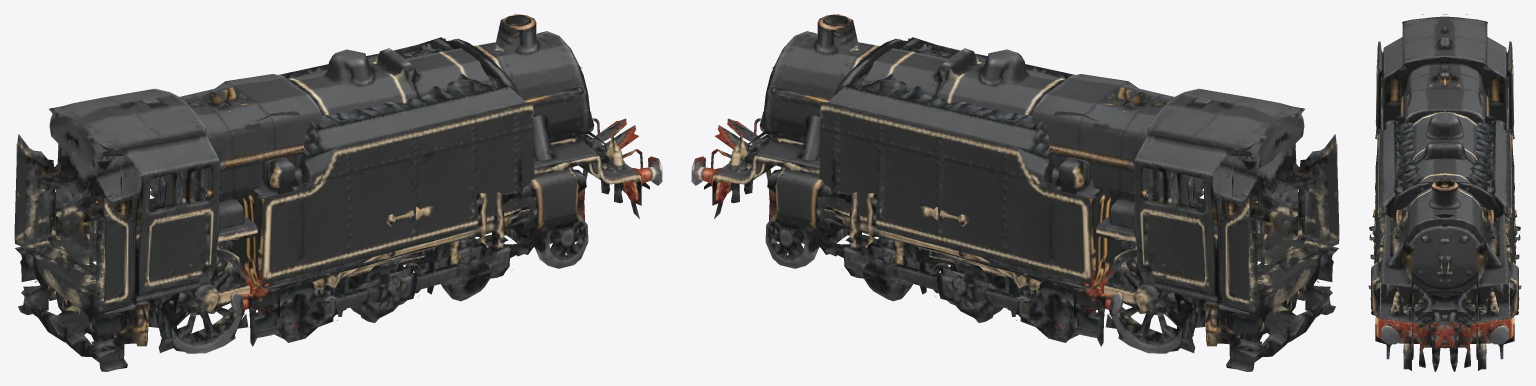
Rendered from black_five.glb.
The picture shows the model from 3 angles, left to right: view 1: azimuth 30°, elevation 25°; view 2: azimuth 150°, elevation 25°; view 3: azimuth 270°, elevation 25°; orthographic projection. The views are drawn at different scales.
Parts seen in each view (by area): view 1: engine, tender, engine.mirror, tender.mirror; view 2: engine.mirror, tender.mirror, engine, tender; view 3: engine, engine.mirror, tender, tender.mirror.
Boxes of the visible parts, x1,y1,x2,y2 form: engine: (59,18,662,371); tender: (220,50,534,346); engine.mirror: (14,14,626,342); tender.mirror: (279,37,479,78); engine.mirror: (691,18,1294,371); tender.mirror: (819,50,1133,346); engine: (727,14,1339,342); tender: (874,37,1074,78); engine: (1371,14,1444,371); engine.mirror: (1445,14,1518,371); tender: (1368,115,1444,318); tender.mirror: (1445,115,1521,318).
Size of the model in its own units: 9.95 by 4.2 by 3.06.
Materials: 1 (1 with a texture image).
